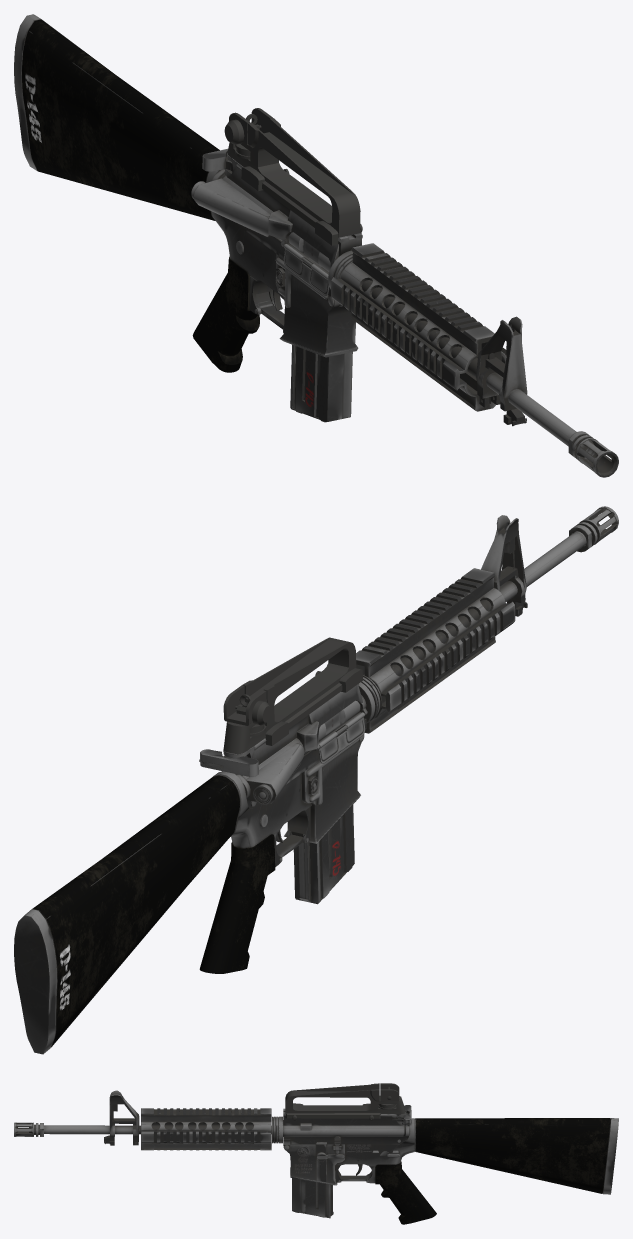
File: M4_gun.fbx
3 views of the same model, one above another, from view 1: azimuth 30°, elevation 25°; view 2: azimuth 150°, elevation 25°; view 3: azimuth 270°, elevation 25° (orthographic). The views are drawn at different scales.
Parts seen in each view (by area): view 1: BARREL.003, BARREL.004; view 2: BARREL.003, BARREL.004, BARREL.005; view 3: BARREL.003, BARREL.004, BARREL.005.
Part boxes in pixels (x1,y1,x2,y2): BARREL.003: [14, 14, 618, 477]; BARREL.004: [290, 344, 352, 422]; BARREL.003: [14, 506, 618, 1054]; BARREL.004: [293, 804, 354, 904]; BARREL.005: [199, 749, 258, 776]; BARREL.003: [14, 1083, 618, 1224]; BARREL.004: [292, 1178, 333, 1218]; BARREL.005: [392, 1105, 411, 1126].
Bounding box in the file's own units: 608 × 2117 × 8414.
